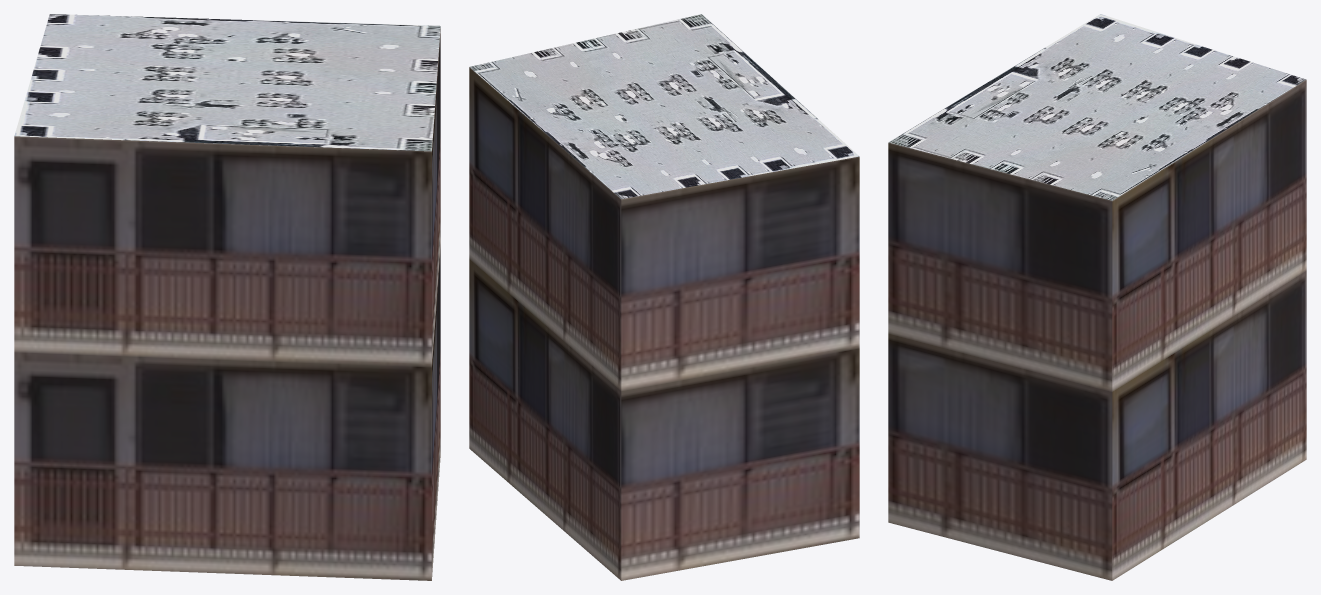
The model's file is ResTex__3319.fbx.
3 views of the same model, side by side, from view 1: azimuth 30°, elevation 25°; view 2: azimuth 150°, elevation 25°; view 3: azimuth 270°, elevation 25° (orthographic). The views are drawn at different scales.
Visible parts, largest first — view 1: CityEngineMaterial_6_m, CityEngineMaterial_8_m; view 2: CityEngineMaterial_6_m, CityEngineMaterial_8_m; view 3: CityEngineMaterial_6_m, CityEngineMaterial_8_m.
Boxes of the visible parts, bbox=[...] form: CityEngineMaterial_6_m: bbox=[14, 28, 440, 580]; CityEngineMaterial_8_m: bbox=[14, 14, 440, 151]; CityEngineMaterial_6_m: bbox=[469, 67, 859, 580]; CityEngineMaterial_8_m: bbox=[470, 14, 859, 199]; CityEngineMaterial_6_m: bbox=[888, 80, 1306, 580]; CityEngineMaterial_8_m: bbox=[888, 14, 1306, 200].
Size of the model in its own units: 6.33 by 6 by 5.98.
Materials: 2 (2 with a texture image).
